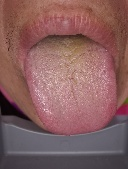tongue: (23, 44, 118, 137)
